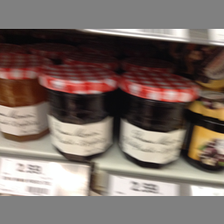jam: (119, 71, 200, 168), (38, 64, 117, 162), (1, 53, 49, 142)
